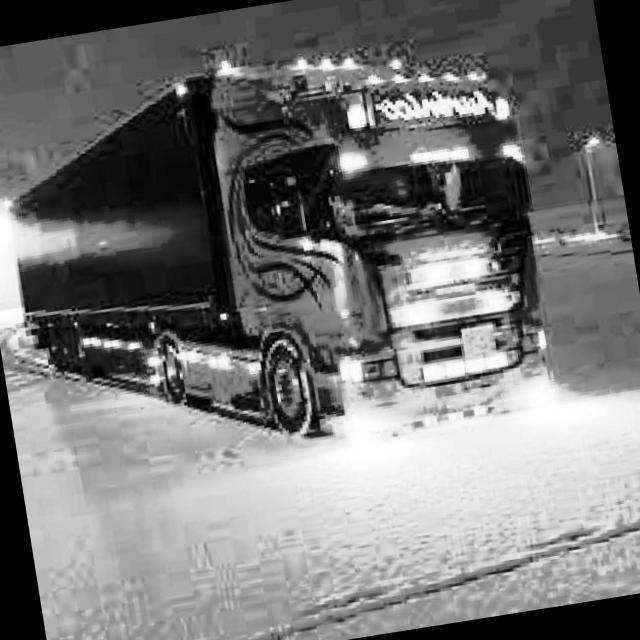Truck: (0, 16, 568, 491)
